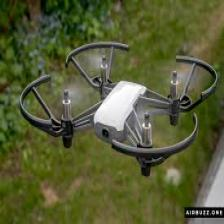drone: (33, 53, 206, 173)
